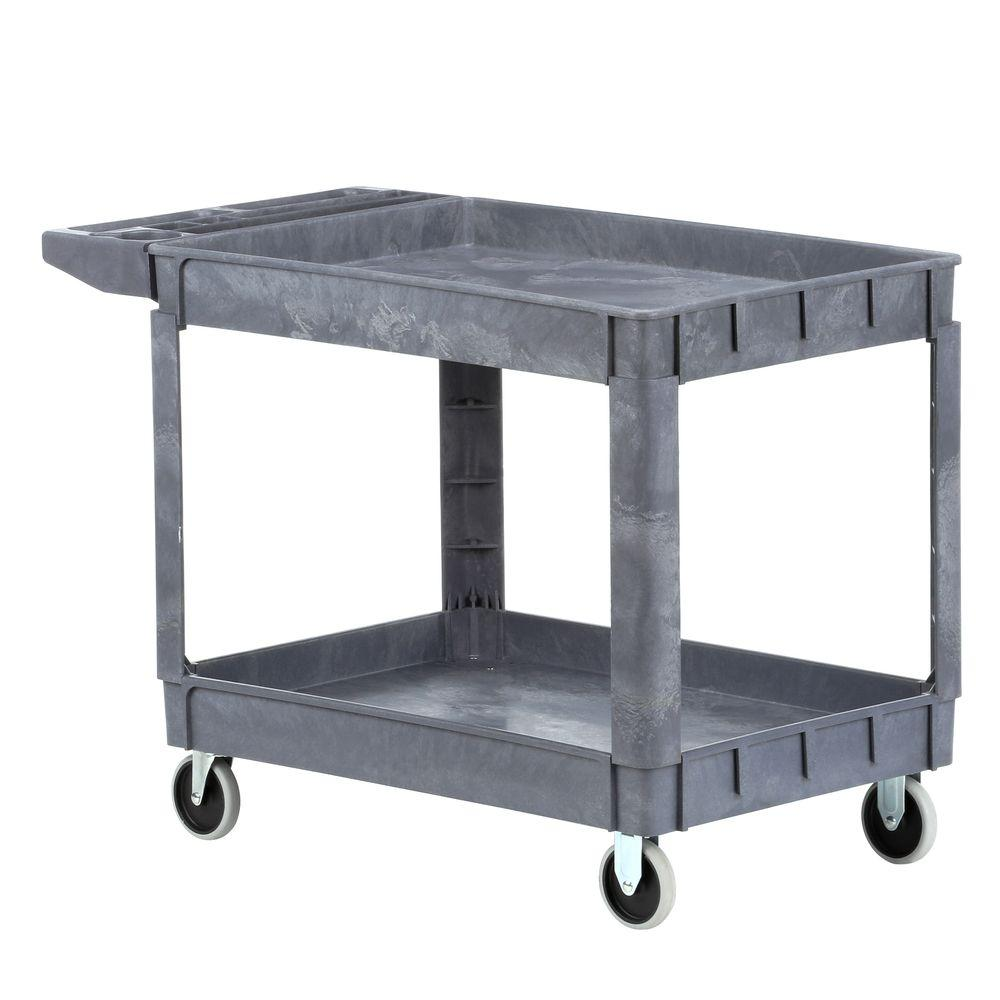Carts: (40, 184, 963, 930)
